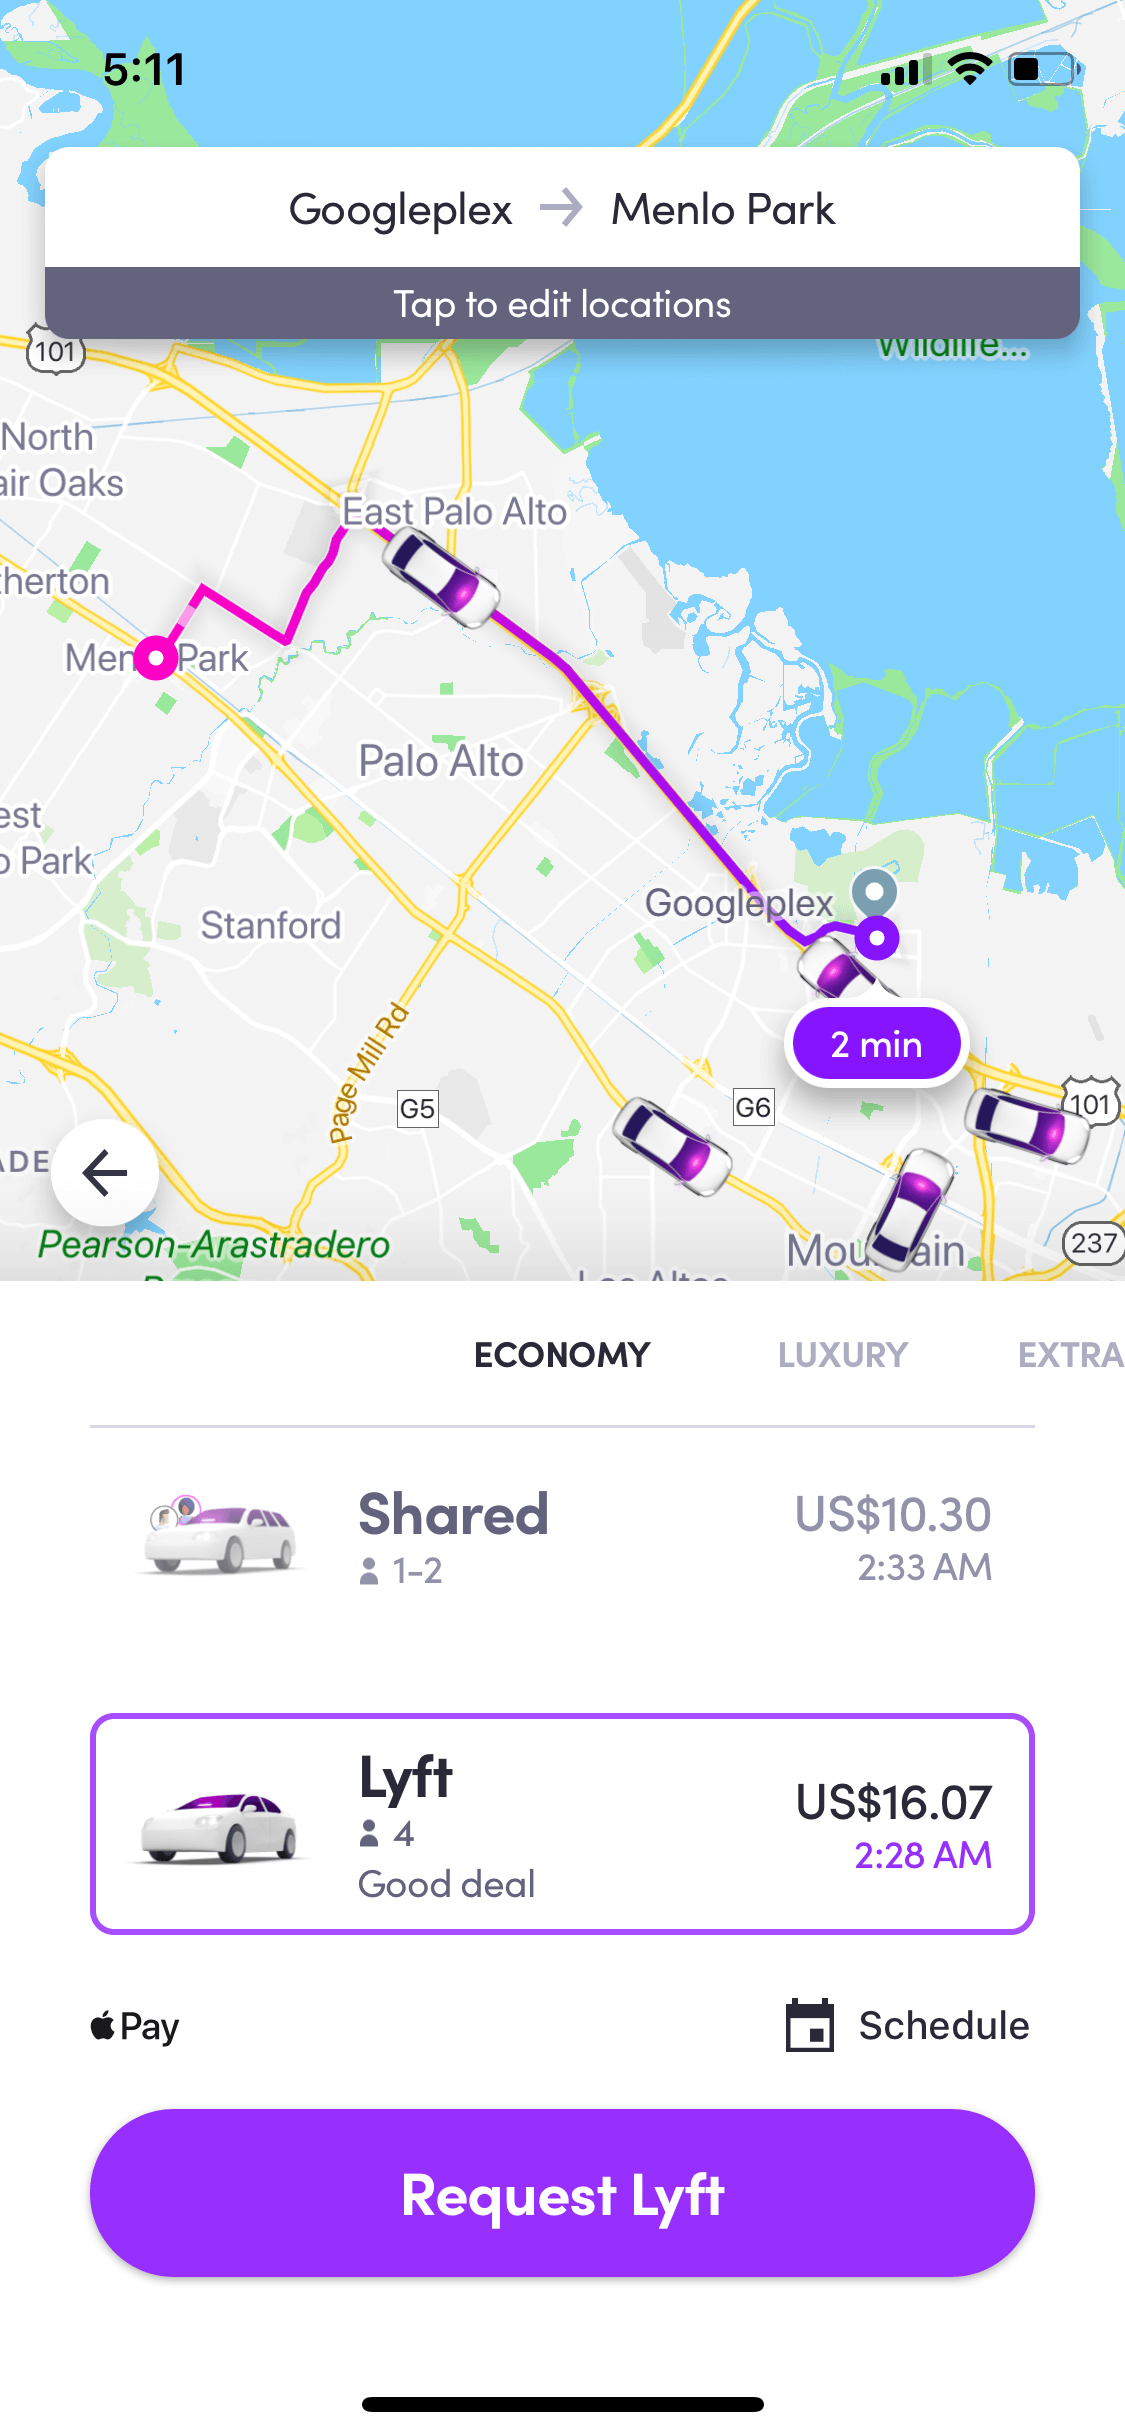Buttons: (82, 2090, 1046, 2312), (741, 1956, 1047, 2069)
FAB (Floating Action Button): (39, 1098, 172, 1238)
